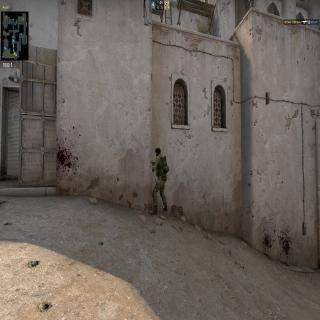CT-Head: (155, 145, 161, 157)
